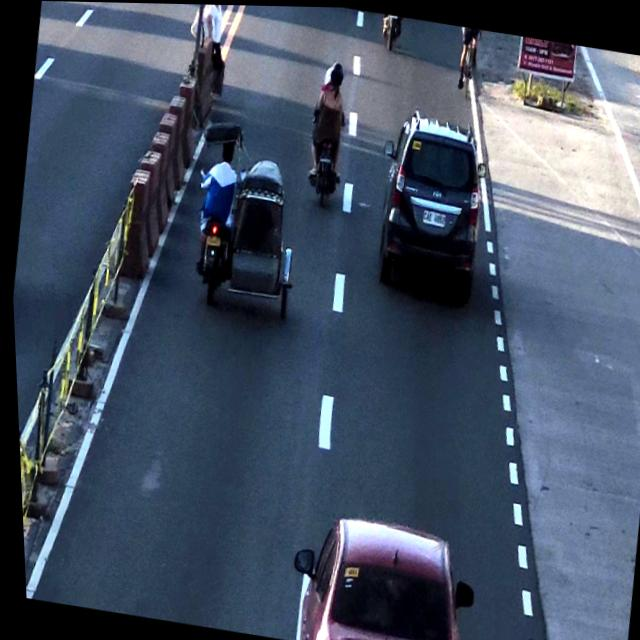Car: (287, 502, 468, 640), (370, 112, 493, 292)
License-Plate: (415, 203, 447, 227), (202, 230, 221, 248)
Motorcycle: (300, 57, 359, 209)
Tricycle: (170, 109, 314, 316)
